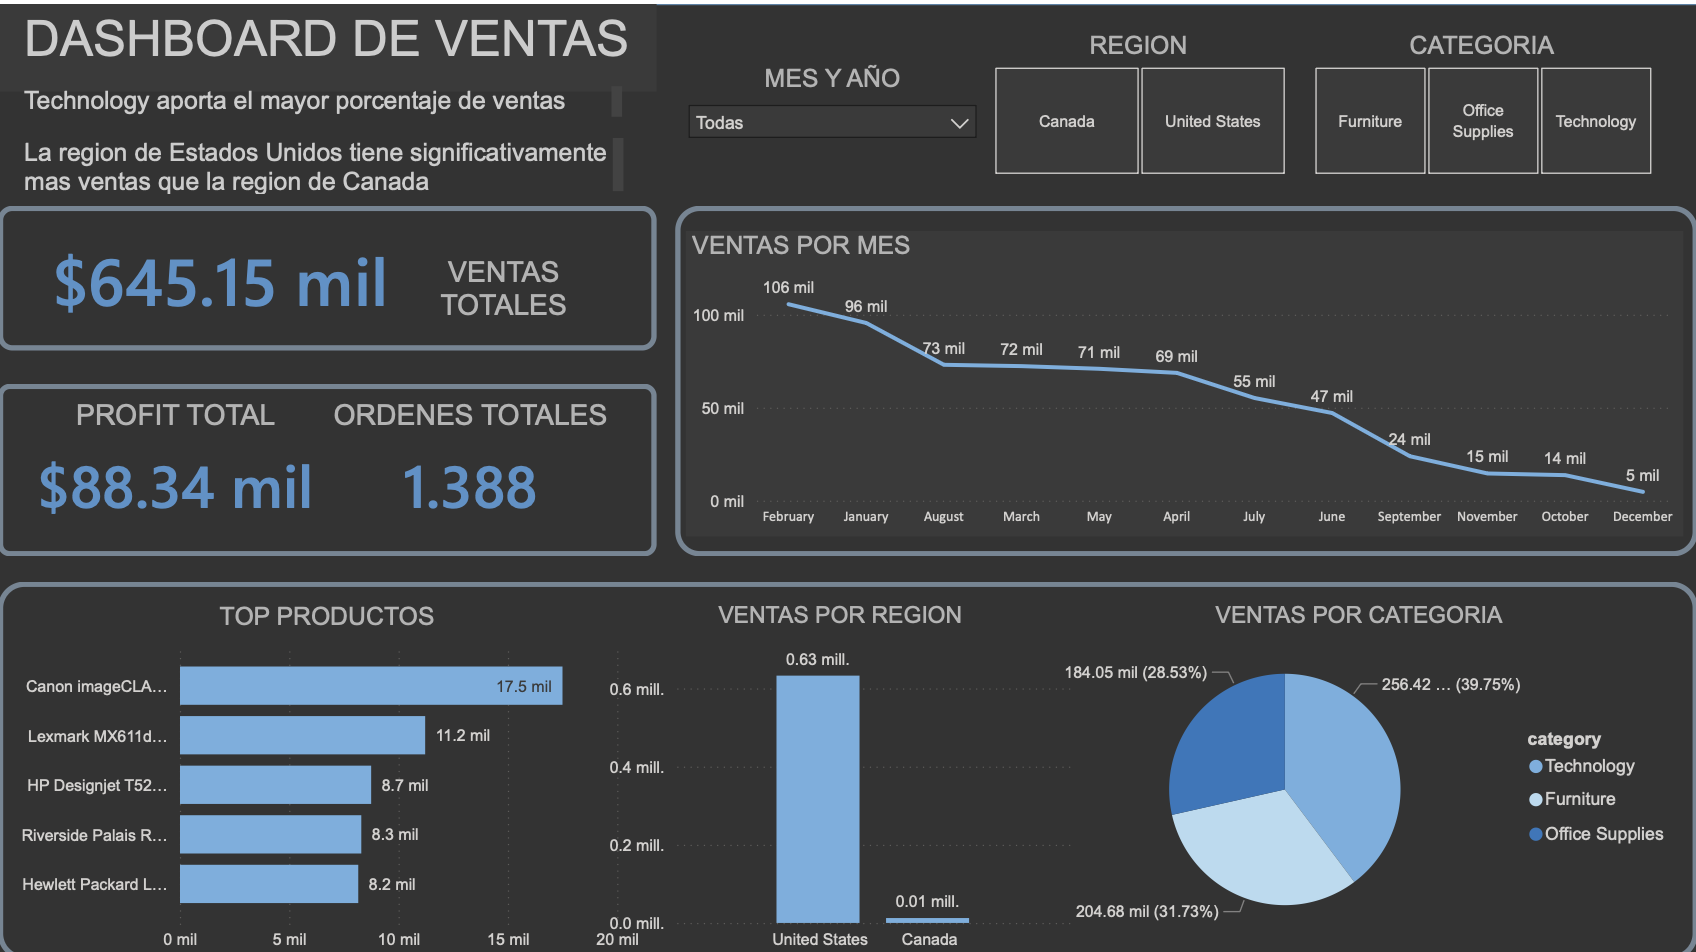

Layout of this report page (visuals, bound fields, positions):
{"tool":"powerbi","page":{"name":"Dashboard","canvas":[1280,720],"ordinal":0},"visuals":[{"type":"shape","box":[0,151.7,495.9,109.6],"z":1000},{"type":"shape","box":[510,151.7,770,263.9],"z":2000},{"type":"shape","box":[0,285.6,495.9,130],"z":3000},{"type":"shape","box":[0,435.2,1280,285.2],"z":4000},{"type":"cardVisual","fields":{"Data":["ventas vw_orders_clean.Ventas totales"]},"box":[0,159.4,335.3,93.1],"z":5000},{"type":"textbox","box":[285.6,184.9,190,67.6],"z":6000},{"type":"cardVisual","title":"PROFIT TOTAL","fields":{"Data":["ventas vw_orders_clean.Profit total"]},"box":[0,298.3,267.7,103.3],"z":7000},{"type":"cardVisual","title":"ORDENES TOTALES","fields":{"Data":["ventas vw_orders_clean.Ordenes totales"]},"box":[235.9,298.3,239.7,103.3],"z":8000},{"type":"lineChart","title":"VENTAS POR MES","fields":{"Category":["ventas vw_orders_clean.month_name"],"Y":["ventas vw_orders_clean.Total Sales"]},"box":[518.3,171.2,750.5,229.8],"z":9000},{"type":"textbox","box":[0,0,496,65.7],"z":10000},{"type":"clusteredBarChart","title":"TOP PRODUCTOS","fields":{"Category":["ventas vw_orders_clean.product_name"],"Y":["ventas vw_orders_clean.Total Sales"]},"box":[0,450.3,496,269.7],"z":11000},{"type":"clusteredColumnChart","title":"VENTAS POR REGION","fields":{"Category":["ventas vw_orders_clean.country_region"],"Y":["ventas vw_orders_clean.Total Sales"]},"box":[455,450.3,358.8,269.7],"z":12000},{"type":"pieChart","title":"VENTAS POR CATEGORIA","fields":{"Category":["ventas vw_orders_clean.category"],"Y":["ventas vw_orders_clean.Total Sales"]},"box":[781,450.3,487.8,262.7],"z":13000},{"type":"slicer","title":"MES Y AÑO","fields":{"Values":["ventas vw_orders_clean.order_year","ventas vw_orders_clean.order_month"]},"box":[510.1,44.6,236.9,106.7],"z":14000},{"type":"slicer","title":"REGION","fields":{"Values":["ventas vw_orders_clean.country_region"]},"box":[724.7,19.9,268.5,114.9],"z":15000},{"type":"slicer","title":"CATEGORIA","fields":{"Values":["ventas vw_orders_clean.category"]},"box":[966.3,19.9,302.5,114.9],"z":16000},{"type":"textbox","box":[15.2,57.5,459.7,38.7],"z":17000},{"type":"textbox","box":[15.2,96.2,460.8,51.6],"z":18000}]}

Visuals, with their boxes in screenshot pixels (x1, y1, x2, y2), scaled from the page's 1280x720 canvas onto the 1696x952 screenshot:
shape: pyautogui.locateOnScreen(0, 201, 657, 345)
shape: pyautogui.locateOnScreen(676, 201, 1695, 550)
shape: pyautogui.locateOnScreen(0, 378, 657, 550)
shape: pyautogui.locateOnScreen(0, 575, 1695, 951)
cardVisual - ventas vw_orders_clean.Ventas totales: pyautogui.locateOnScreen(0, 211, 444, 334)
textbox: pyautogui.locateOnScreen(378, 244, 630, 334)
"PROFIT TOTAL" cardVisual: pyautogui.locateOnScreen(0, 394, 355, 531)
"ORDENES TOTALES" cardVisual: pyautogui.locateOnScreen(313, 394, 630, 531)
"VENTAS POR MES" lineChart: pyautogui.locateOnScreen(687, 226, 1681, 530)
textbox: pyautogui.locateOnScreen(0, 0, 657, 87)
"TOP PRODUCTOS" clusteredBarChart: pyautogui.locateOnScreen(0, 595, 657, 951)
"VENTAS POR REGION" clusteredColumnChart: pyautogui.locateOnScreen(603, 595, 1078, 951)
"VENTAS POR CATEGORIA" pieChart: pyautogui.locateOnScreen(1035, 595, 1681, 943)
"MES Y AÑO" slicer: pyautogui.locateOnScreen(676, 59, 990, 200)
"REGION" slicer: pyautogui.locateOnScreen(960, 26, 1316, 178)
"CATEGORIA" slicer: pyautogui.locateOnScreen(1280, 26, 1681, 178)
textbox: pyautogui.locateOnScreen(20, 76, 629, 127)
textbox: pyautogui.locateOnScreen(20, 127, 631, 195)
